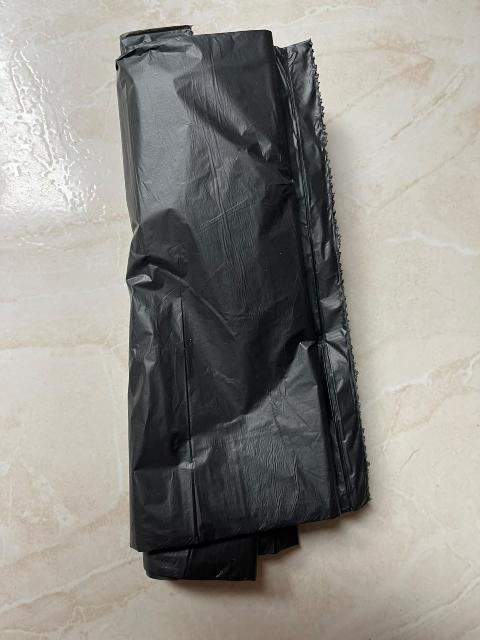LDPE: (71, 19, 382, 565)
